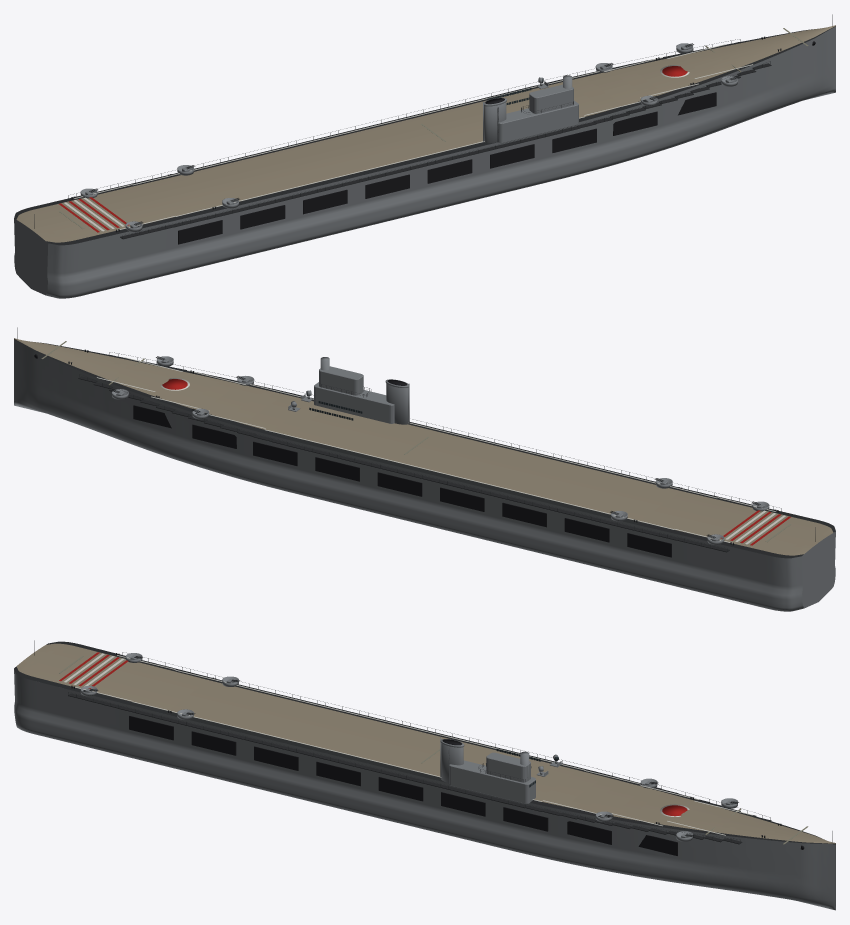
The model's file is taiho.glb.
3 views of the same model, one above another, from view 1: azimuth 30°, elevation 25°; view 2: azimuth 150°, elevation 25°; view 3: azimuth 330°, elevation 25° (orthographic).
Parts seen in each view (by area): view 1: taiho; view 2: taiho; view 3: taiho.
Boxes of the visible parts, x1,y1,x2,y2 form: taiho: [14, 14, 835, 298]; taiho: [14, 327, 835, 611]; taiho: [14, 640, 835, 910].
Size of the model in its own units: 261 by 31.5 by 30.8.
